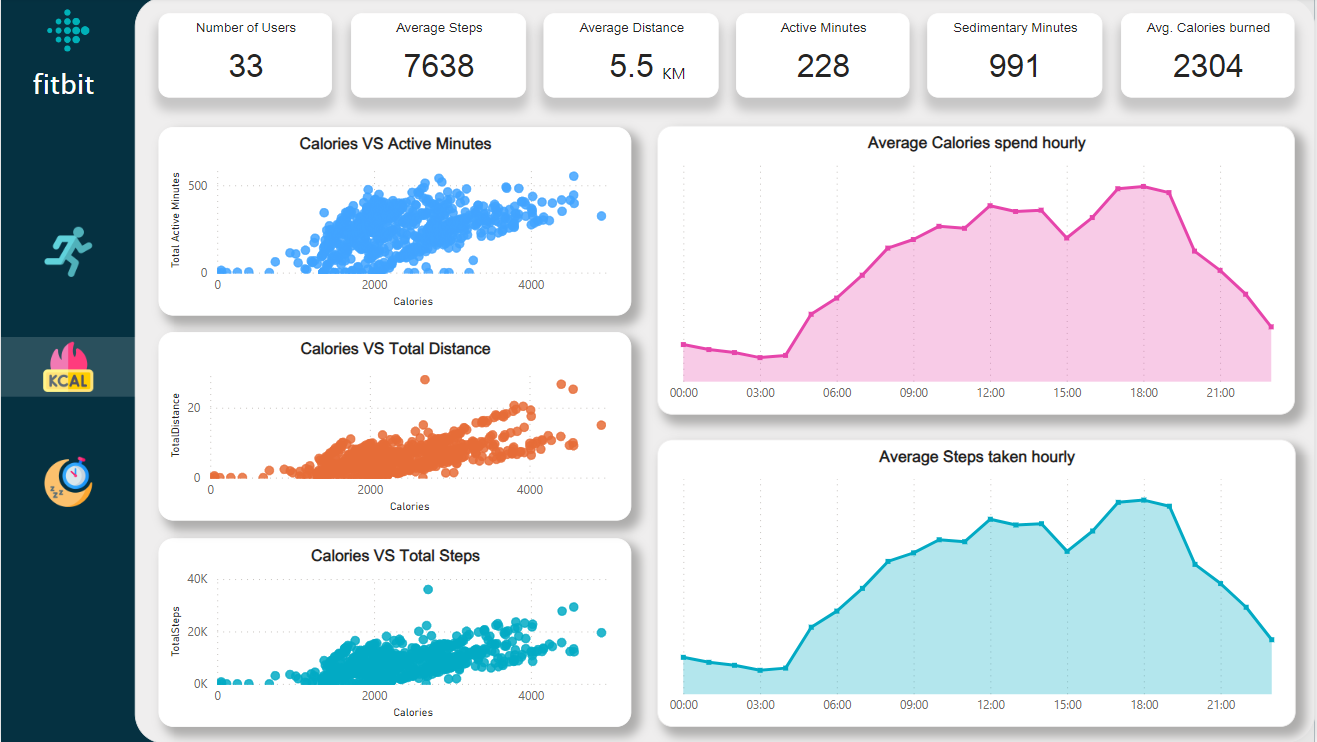

What the dashboard file says about the page in this screenshot:
{"tool":"powerbi","page":{"name":"Calories","canvas":[1320,720],"ordinal":1},"visuals":[{"type":"shape","box":[1150.9,0,169.4,720.3],"z":0},{"type":"shape","box":[133.9,0,1185.5,721.2],"z":1000},{"type":"shape","title":"Avg Calories burned","box":[1125.3,18.6,174.9,87.4],"z":2000},{"type":"shape","title":"Avg Sedimentary mins","box":[934.7,17.2,174.9,87.4],"z":3000},{"type":"shape","title":"Avg. Distance","box":[544.7,15.8,174.9,87.4],"z":4000},{"type":"shape","title":"Avg Active Mins","box":[738.3,17.2,174.9,87.4],"z":5000},{"type":"shape","title":"Avg. Steps","box":[351.2,14.3,174.9,87.4],"z":6000},{"type":"card","title":"Average Steps","fields":{"Values":["Avg(dailyActivity_merged1.TotalSteps)"]},"box":[404,33.8,121.8,67.5],"z":7000},{"type":"card","title":"Average Distance","fields":{"Values":["Avg(dailyActivity_merged1.TotalDistance)"]},"box":[582.5,33.8,127.8,67.5],"z":8000},{"type":"card","title":"Avg. Active Minutes","fields":{"Values":["Avg(dailyActivity_merged1.Total Active Minutes)"]},"box":[798.4,43.4,103.7,48.2],"z":9000},{"type":"card","title":"Sedimentary Minutes","fields":{"Values":["Avg(dailyActivity_merged1.SedentaryMinutes)"]},"box":[988.9,43.4,102.5,48.2],"z":10000},{"type":"image","box":[0,7.8,135.3,52],"z":11000},{"type":"textbox","box":[0,57.2,135.3,72.9],"z":12000},{"type":"textbox","box":[659.7,59.1,53.1,42.2],"z":13000},{"type":"card","title":"Avg. Calories burnt","fields":{"Values":["Avg(dailyActivity_merged1.Calories)"]},"box":[1184.3,43.4,102.5,48.2],"z":14000},{"type":"image","box":[0,365.9,135.7,60.3],"z":15000},{"type":"image","box":[0,481.4,135.7,60.3],"z":16000},{"type":"image","box":[0,597,135.7,60.3],"z":17000},{"type":"slicer","fields":{"Values":["Date.Date"]},"box":[1.3,135,132.4,135],"z":18000},{"type":"image","box":[370.3,35,47,62.7],"z":19000},{"type":"image","box":[567.7,34.4,47.3,67.4],"z":20000},{"type":"image","box":[764.6,39.8,47,65.1],"z":21000},{"type":"image","box":[940.7,39.8,68.7,51.9],"z":22000},{"type":"image","box":[1150.6,45.8,41,49.4],"z":23000},{"type":"shape","title":"Number of Users","box":[156.8,14.5,174.9,86.8],"z":24000},{"type":"shape","title":"Average Total Steps by the week Day","box":[688.1,424.7,610.7,295.3],"z":27000},{"type":"shape","title":"Average Calories Spend by the week Day","box":[688.4,130.7,611.8,295.2],"z":28000},{"type":"areaChart","title":"Average Steps taken hourly","fields":{"Category":["dailyActivity_merged1.Week Day"],"Y":["Avg(dailyActivity_merged1.TotalSteps)"]},"box":[714.8,459.9,560.3,260.1],"z":29000},{"type":"areaChart","title":"Average Calories spend hourly","fields":{"Category":["dailyActivity_merged1.Week Day"],"Y":["Avg(dailyActivity_merged1.Calories)"]},"box":[717.3,165.8,560.3,260.1],"z":30000},{"type":"scatterChart","title":"Calories VS Active Minutes","fields":{"X":["dailyActivity_merged1.Calories"],"Y":["dailyActivity_merged1.Total Active Minutes"]},"box":[159.1,130.5,508,189.2],"z":31000},{"type":"scatterChart","title":"Calories VS Total Steps","fields":{"X":["dailyActivity_merged1.Calories"],"Y":["dailyActivity_merged1.TotalSteps"]},"box":[158.3,530.3,508.8,189.7],"z":32000},{"type":"scatterChart","title":"Calories VS  Total Distance","fields":{"X":["dailyActivity_merged1.Calories"],"Y":["dailyActivity_merged1.TotalDistance"]},"box":[158.3,336.7,508.8,189.7],"z":33000},{"type":"image","box":[185.7,42.2,47,51.9],"z":33001},{"type":"card","title":"Number of Users","fields":{"Values":["Count(dailyActivity_merged1.Id)"]},"box":[220.7,36.2,85.6,67.5],"z":33002}]}

Visuals, with their boxes on the page's 1320x720 design canvas (x1, y1, x2, y2). These are canvas units, not pixel positions in the 1317x742 screenshot, which may show the page scaled, cropped or inside an application window:
shape: [left=1151, top=0, right=1320, bottom=720]
shape: [left=134, top=0, right=1319, bottom=721]
"Avg Calories burned" shape: [left=1125, top=19, right=1300, bottom=106]
"Avg Sedimentary mins" shape: [left=935, top=17, right=1110, bottom=105]
"Avg. Distance" shape: [left=545, top=16, right=720, bottom=103]
"Avg Active Mins" shape: [left=738, top=17, right=913, bottom=105]
"Avg. Steps" shape: [left=351, top=14, right=526, bottom=102]
"Average Steps" card: [left=404, top=34, right=526, bottom=101]
"Average Distance" card: [left=582, top=34, right=710, bottom=101]
"Avg. Active Minutes" card: [left=798, top=43, right=902, bottom=92]
"Sedimentary Minutes" card: [left=989, top=43, right=1091, bottom=92]
image: [left=0, top=8, right=135, bottom=60]
textbox: [left=0, top=57, right=135, bottom=130]
textbox: [left=660, top=59, right=713, bottom=101]
"Avg. Calories burnt" card: [left=1184, top=43, right=1287, bottom=92]
image: [left=0, top=366, right=136, bottom=426]
image: [left=0, top=481, right=136, bottom=542]
image: [left=0, top=597, right=136, bottom=657]
slicer - Date.Date: [left=1, top=135, right=134, bottom=270]
image: [left=370, top=35, right=417, bottom=98]
image: [left=568, top=34, right=615, bottom=102]
image: [left=765, top=40, right=812, bottom=105]
image: [left=941, top=40, right=1009, bottom=92]
image: [left=1151, top=46, right=1192, bottom=95]
"Number of Users" shape: [left=157, top=14, right=332, bottom=101]
"Average Total Steps by the week Day" shape: [left=688, top=425, right=1299, bottom=720]
"Average Calories Spend by the week Day" shape: [left=688, top=131, right=1300, bottom=426]
"Average Steps taken hourly" areaChart: [left=715, top=460, right=1275, bottom=720]
"Average Calories spend hourly" areaChart: [left=717, top=166, right=1278, bottom=426]
"Calories VS Active Minutes" scatterChart: [left=159, top=130, right=667, bottom=320]
"Calories VS Total Steps" scatterChart: [left=158, top=530, right=667, bottom=720]
"Calories VS  Total Distance" scatterChart: [left=158, top=337, right=667, bottom=526]
image: [left=186, top=42, right=233, bottom=94]
"Number of Users" card: [left=221, top=36, right=306, bottom=104]
